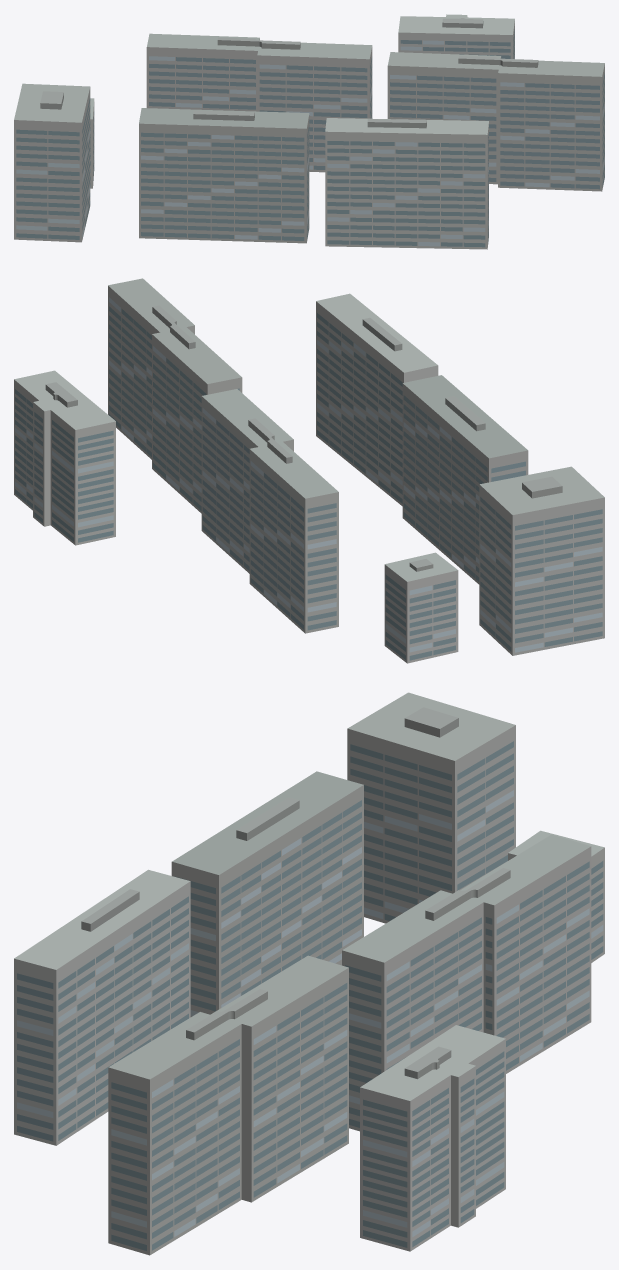
Rendered from apt-a15780002.glb.
3 views of the same model, one above another, from view 1: azimuth 30°, elevation 25°; view 2: azimuth 150°, elevation 25°; view 3: azimuth 270°, elevation 25° (orthographic). The views are drawn at different scales.
Parts seen in each view (by area): view 1: apt-a15780002; view 2: apt-a15780002; view 3: apt-a15780002.
Boxes of the visible parts, x1,y1,x2,y2 form: apt-a15780002: (14,14,604,249); apt-a15780002: (14,278,604,663); apt-a15780002: (14,692,604,1255).
Size of the model in its own units: 212 by 50 by 139.
